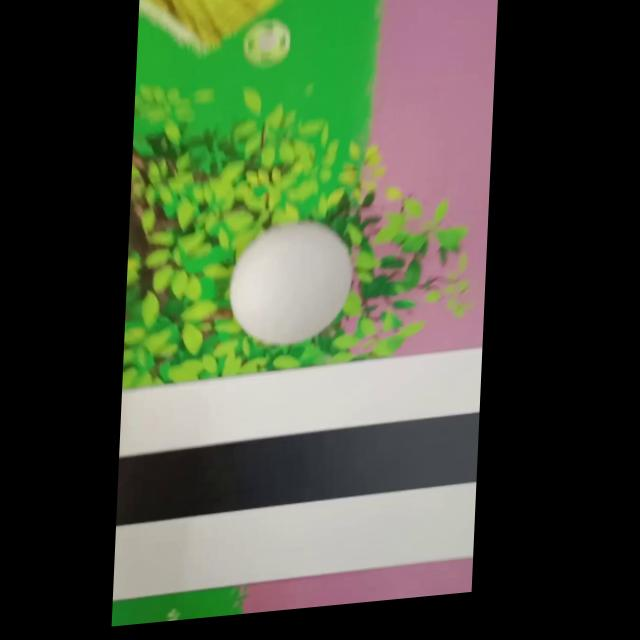white ball: (226, 215, 356, 351)
